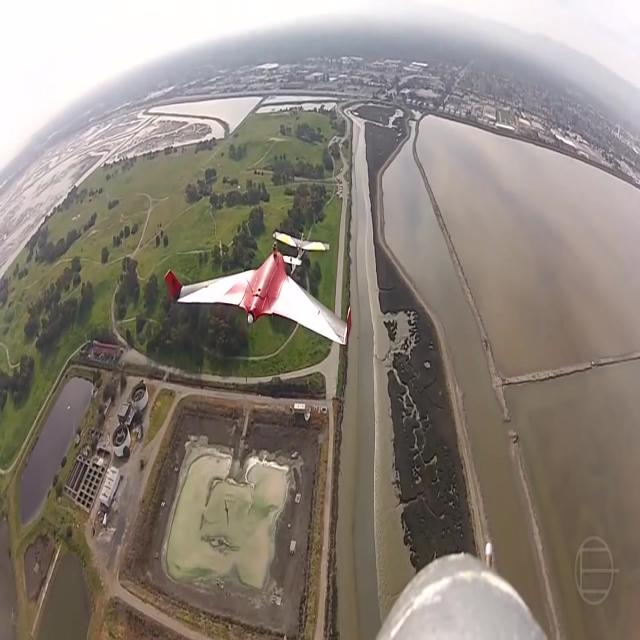iha: (163, 273, 352, 317), (271, 229, 330, 275)
